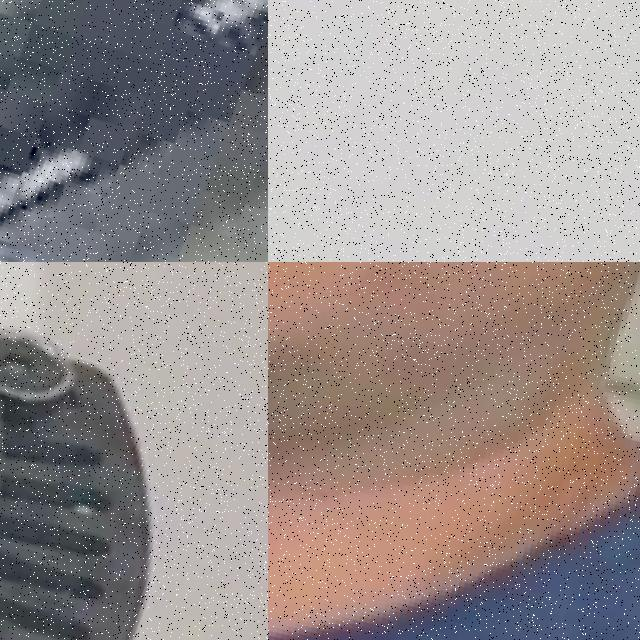drone: (0, 262, 268, 640), (268, 0, 640, 262), (0, 0, 268, 262)
